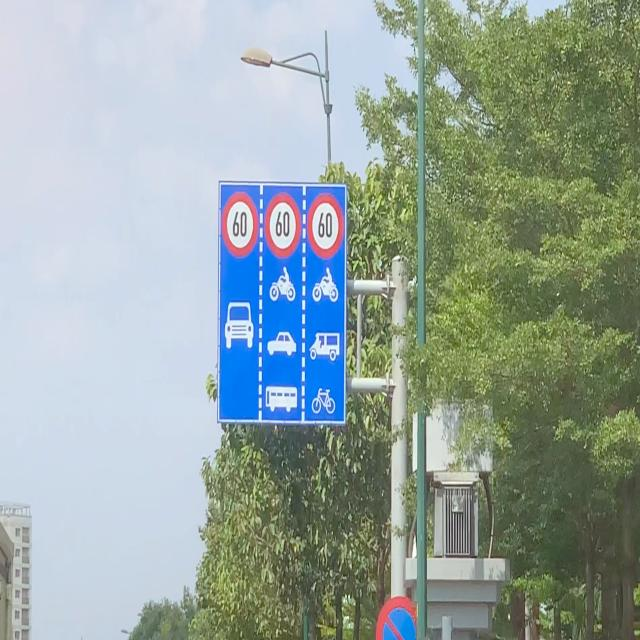Cam do: (368, 591, 428, 640)
Toc do toi da: (304, 185, 349, 270), (220, 189, 264, 259), (261, 184, 303, 256)
